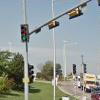Traffic light: (16, 9, 88, 47)
